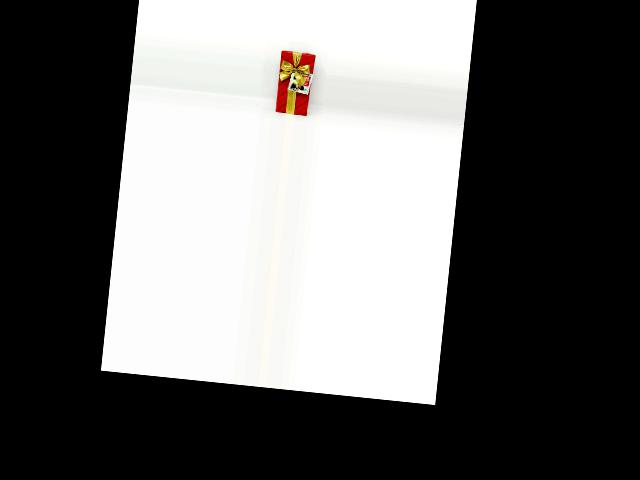chocolate: (272, 47, 315, 115)
